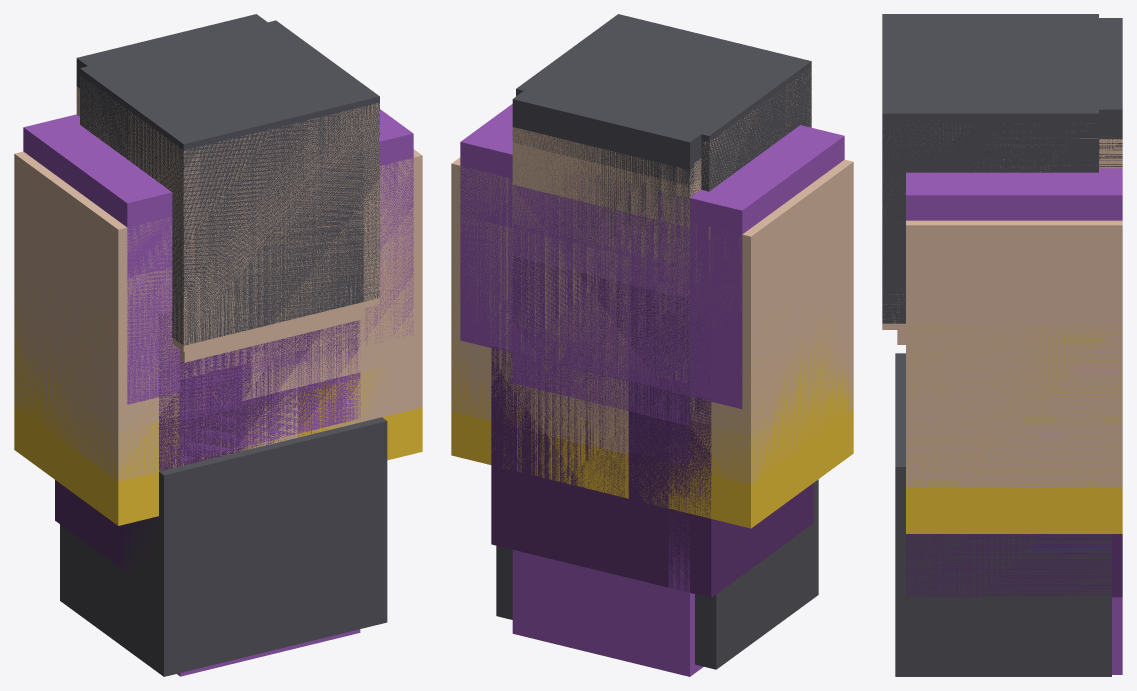
3 views of the same model, side by side, from view 1: azimuth 30°, elevation 25°; view 2: azimuth 150°, elevation 25°; view 3: azimuth 270°, elevation 25° (orthographic). The views are drawn at different scales.
Visible parts, largest first — view 1: LeftBrow, LeftFoot, LeftEyelid, RightFoot, LeftForeArm, LeftUpperArm, RightBrow, Hair, LeftShoulder, LeftHand, RightUpperArm, Hips (+11 smaller); view 2: LeftShoulder, RightLeg, Chest, Hair, LeftBrow, LeftUpperArm, LeftHand, LeftForeArm, LOD0_High, RightForeArm, Spine, LeftLeg (+11 smaller); view 3: RightForeArm, RightUpperArm, RightFoot, RightBrow, Hair, LeftBrow, RightHand, RightLeg, RightShoulder, LeftFoot, LOD0_High, Head.
Part boxes in pixels (bbox=[...]): LeftBrow: bbox=[80, 24, 363, 345]; LeftFoot: bbox=[60, 427, 343, 676]; LeftEyelid: bbox=[80, 77, 363, 351]; RightFoot: bbox=[207, 417, 387, 666]; LeftForeArm: bbox=[14, 204, 298, 481]; LeftUpperArm: bbox=[14, 151, 297, 431]; RightBrow: bbox=[97, 20, 379, 335]; Hair: bbox=[76, 14, 359, 133]; LeftShoulder: bbox=[23, 114, 307, 404]; LeftHand: bbox=[14, 251, 288, 525]; RightUpperArm: bbox=[242, 149, 422, 400]; Hips: bbox=[180, 320, 360, 465]; LeftShoulder: bbox=[565, 125, 844, 408]; RightLeg: bbox=[491, 346, 668, 587]; Chest: bbox=[512, 184, 689, 425]; Hair: bbox=[512, 25, 791, 325]; LeftBrow: bbox=[532, 18, 811, 191]; LeftUpperArm: bbox=[574, 159, 853, 434]; LeftHand: bbox=[629, 295, 853, 528]; LeftForeArm: bbox=[577, 211, 853, 484]; LOD0_High: bbox=[512, 479, 703, 676]; RightForeArm: bbox=[451, 213, 628, 454]; Spine: bbox=[512, 224, 689, 465]; LeftLeg: bbox=[574, 368, 813, 597]; RightForeArm: bbox=[906, 277, 1122, 487]; RightUpperArm: bbox=[906, 220, 1122, 435]; RightFoot: bbox=[895, 375, 1111, 676]; RightBrow: bbox=[882, 22, 1098, 323]; Hair: bbox=[906, 18, 1122, 166]; LeftBrow: bbox=[882, 14, 1098, 105]; RightHand: bbox=[906, 324, 1122, 533]; RightLeg: bbox=[906, 534, 1122, 597]; RightShoulder: bbox=[906, 168, 1122, 220]; LeftFoot: bbox=[895, 353, 905, 444]; LOD0_High: bbox=[1112, 597, 1122, 674]; Head: bbox=[1099, 139, 1122, 168].
Size of the model in its own units: 1.69 by 2.88 by 1.11.
